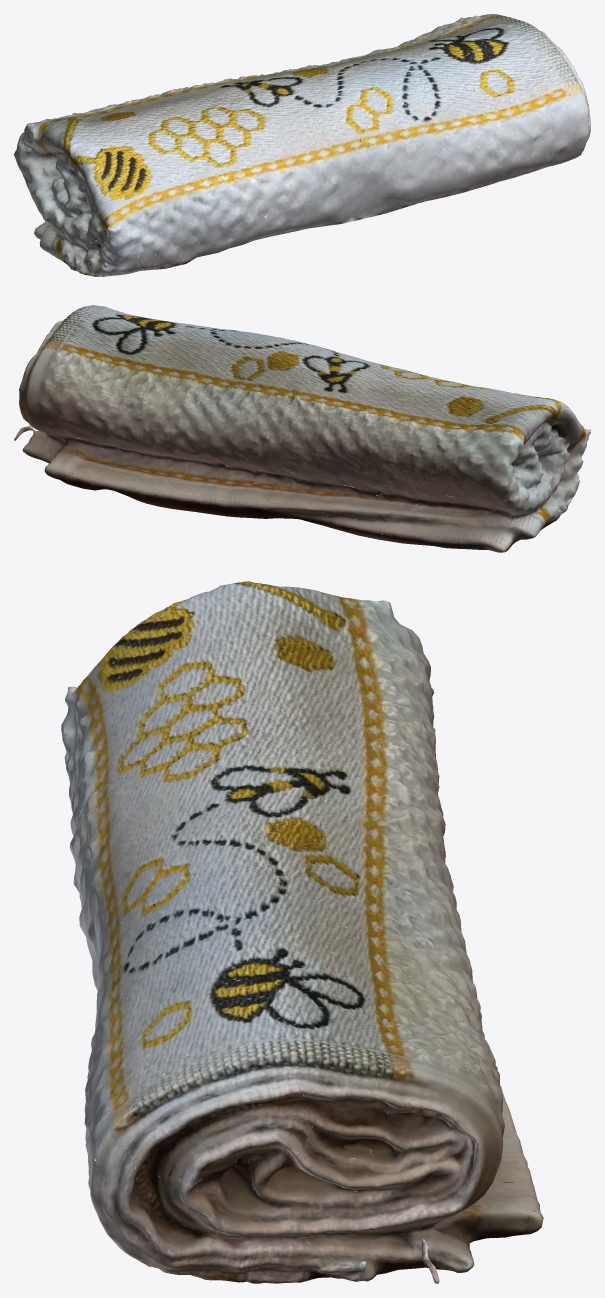
The model's file is towel_stack.glb.
3 views of the same model, one above another, from view 1: azimuth 30°, elevation 25°; view 2: azimuth 150°, elevation 25°; view 3: azimuth 270°, elevation 25° (orthographic). The views are drawn at different scales.
Visible parts, largest first — view 1: towel; view 2: towel; view 3: towel.
Part boxes in pixels (box(x1,y1,x2,y2)): towel: box(14, 14, 590, 276); towel: box(14, 305, 590, 552); towel: box(61, 581, 543, 1283).
Bounding box in the file's own units: 0.2407 × 0.0641 × 0.1025.
1 material, 1 textured.
